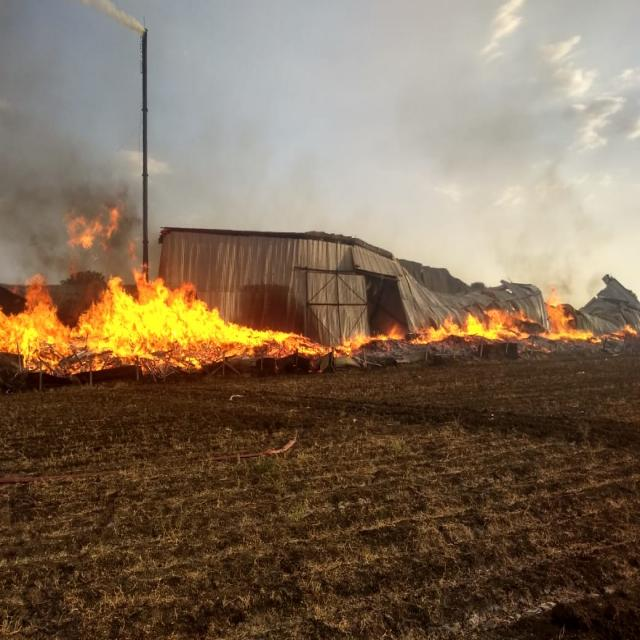Fire: (0, 273, 331, 382), (338, 304, 574, 358), (65, 208, 118, 254)
